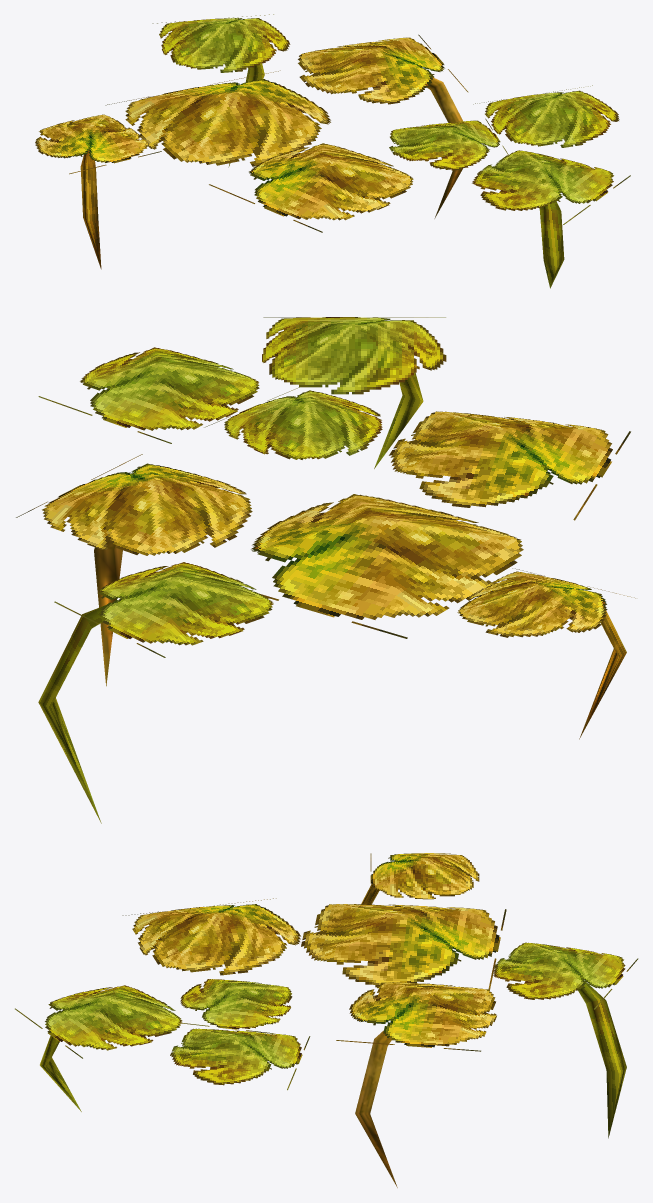
File: swampofsorrowlilypad01.obj
3 views of the same model, one above another, from view 1: azimuth 30°, elevation 25°; view 2: azimuth 150°, elevation 25°; view 3: azimuth 270°, elevation 25° (orthographic). The views are drawn at different scales.
Visible parts, largest first — view 1: Geoset0, Geoset1, Geoset2; view 2: Geoset0, Geoset1, Geoset2; view 3: Geoset0, Geoset1, Geoset2.
Boxes of the visible parts, <box> form: Geoset0: <box>35,34,468,269</box>; Geoset1: <box>152,14,630,288</box>; Geoset2: <box>427,77,463,218</box>; Geoset0: <box>16,411,635,739</box>; Geoset1: <box>38,317,446,823</box>; Geoset2: <box>94,540,122,686</box>; Geoset0: <box>122,853,506,1051</box>; Geoset1: <box>15,942,638,1138</box>; Geoset2: <box>355,1030,397,1187</box>.
Size of the model in its own units: 4.05 by 1.4 by 4.48.
3 materials, 3 textured.
